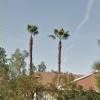Palm tree: (20, 16, 71, 74)
